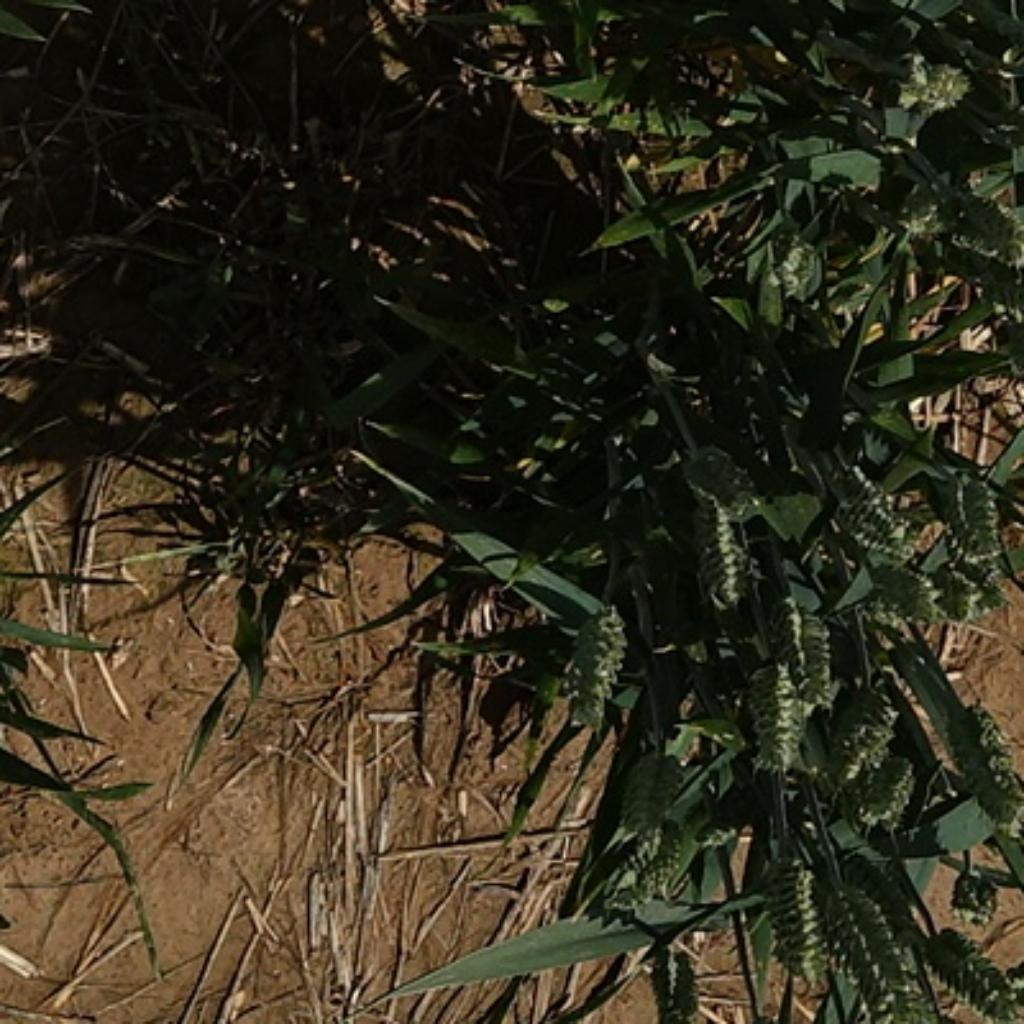0-0: (816, 878, 952, 1024), (747, 832, 834, 1000), (765, 583, 852, 714), (926, 455, 1008, 593), (934, 701, 1024, 824), (552, 596, 634, 714), (687, 508, 759, 634), (592, 819, 683, 918), (821, 460, 911, 558), (734, 655, 803, 773), (685, 431, 772, 521), (821, 693, 906, 780), (935, 190, 1024, 271), (760, 220, 837, 307), (617, 741, 678, 834), (893, 48, 975, 115), (645, 941, 711, 1022), (931, 862, 1008, 931), (870, 752, 926, 824), (899, 191, 949, 247), (973, 107, 1024, 154)
